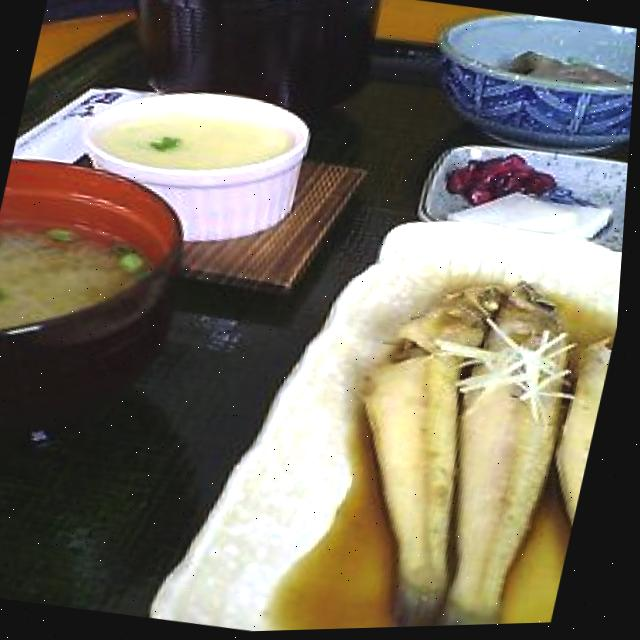熟制海鲜: (280, 222, 628, 633)
